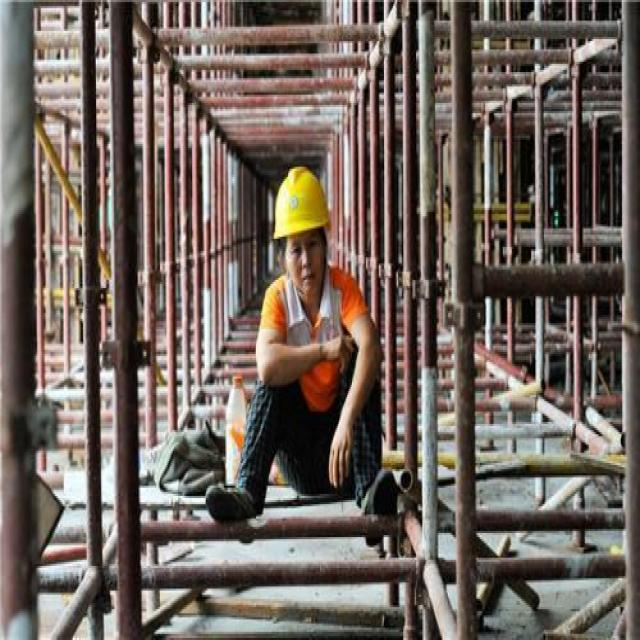hat: (272, 153, 340, 301)
